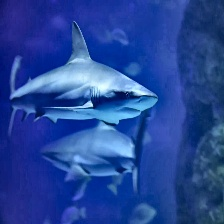shark: (3, 19, 160, 224)
